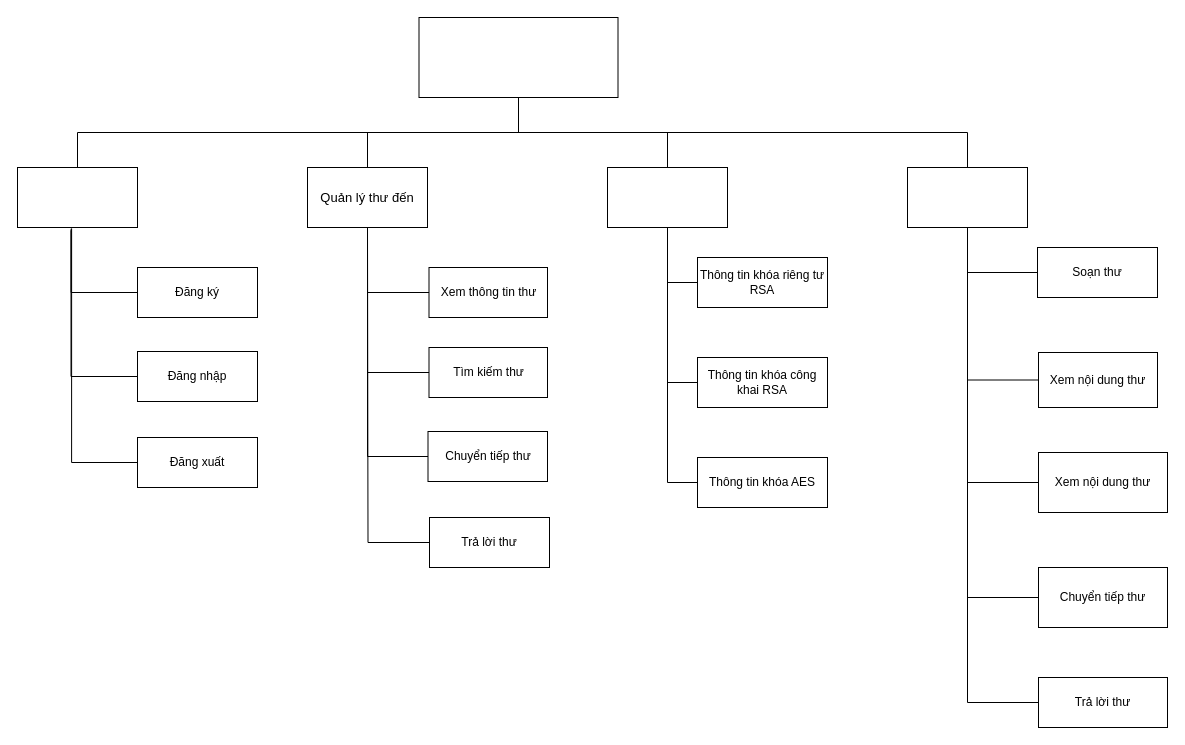
The diagram is 1185 pixels wide and 745 high, and some of its shapes have lost their labels. Here are the shapes that lost their labels. From the top down, the centre of each, then its label:
[518,57]: Hệ thống mã hóa Email bằng AES và RSA
[77,197]: Quản lý tài khoản
[667,197]: Quản lý khóa
[967,197]: Quản lý thư đã gửi
